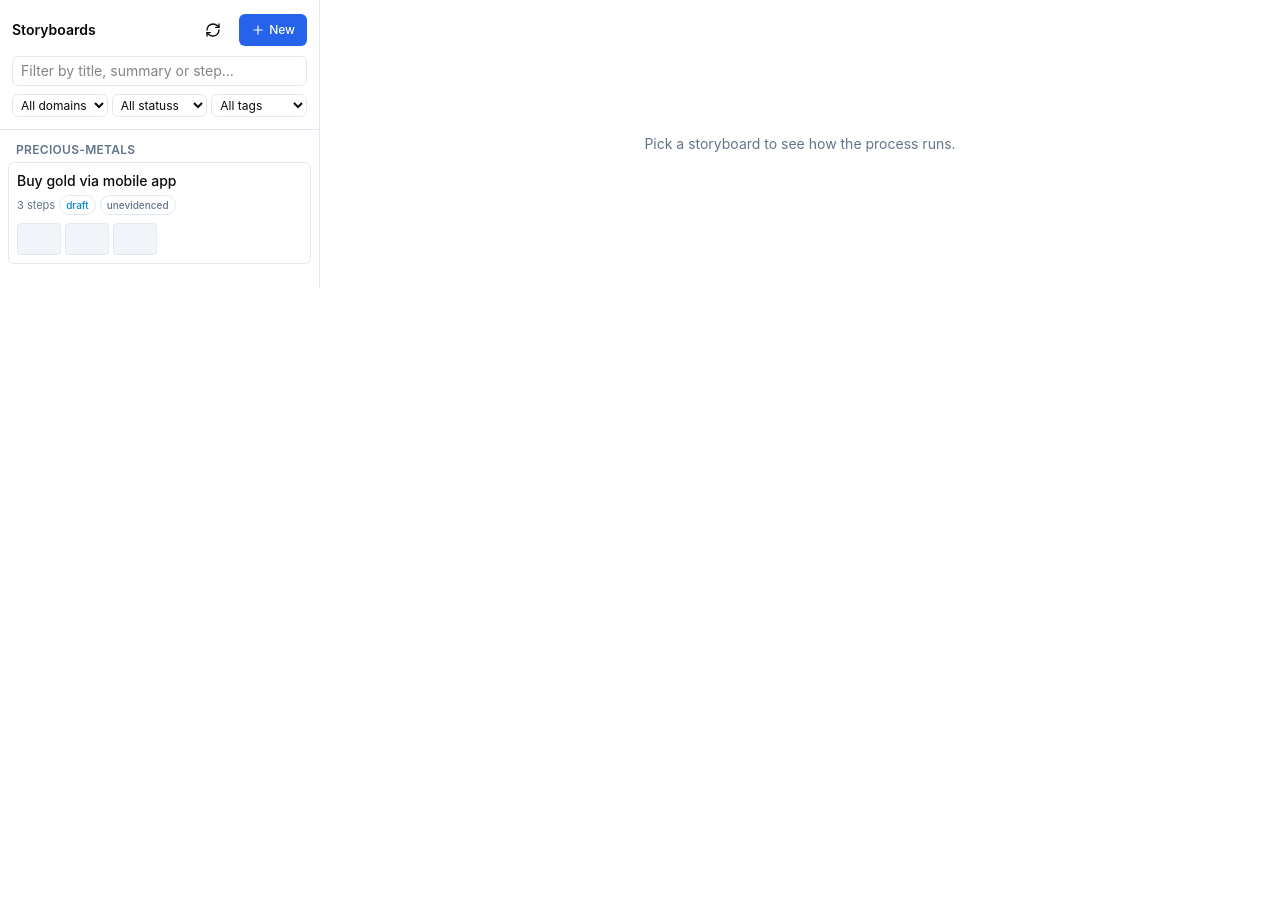
Test: Storyboard reader › e opens the step editor and p opens presentation mode
The image size is (1280, 900).
Step 1. Click the button "Buy gold via mobile app 3 steps draft unevidenced" → (160, 213), box [8,162,311,264]
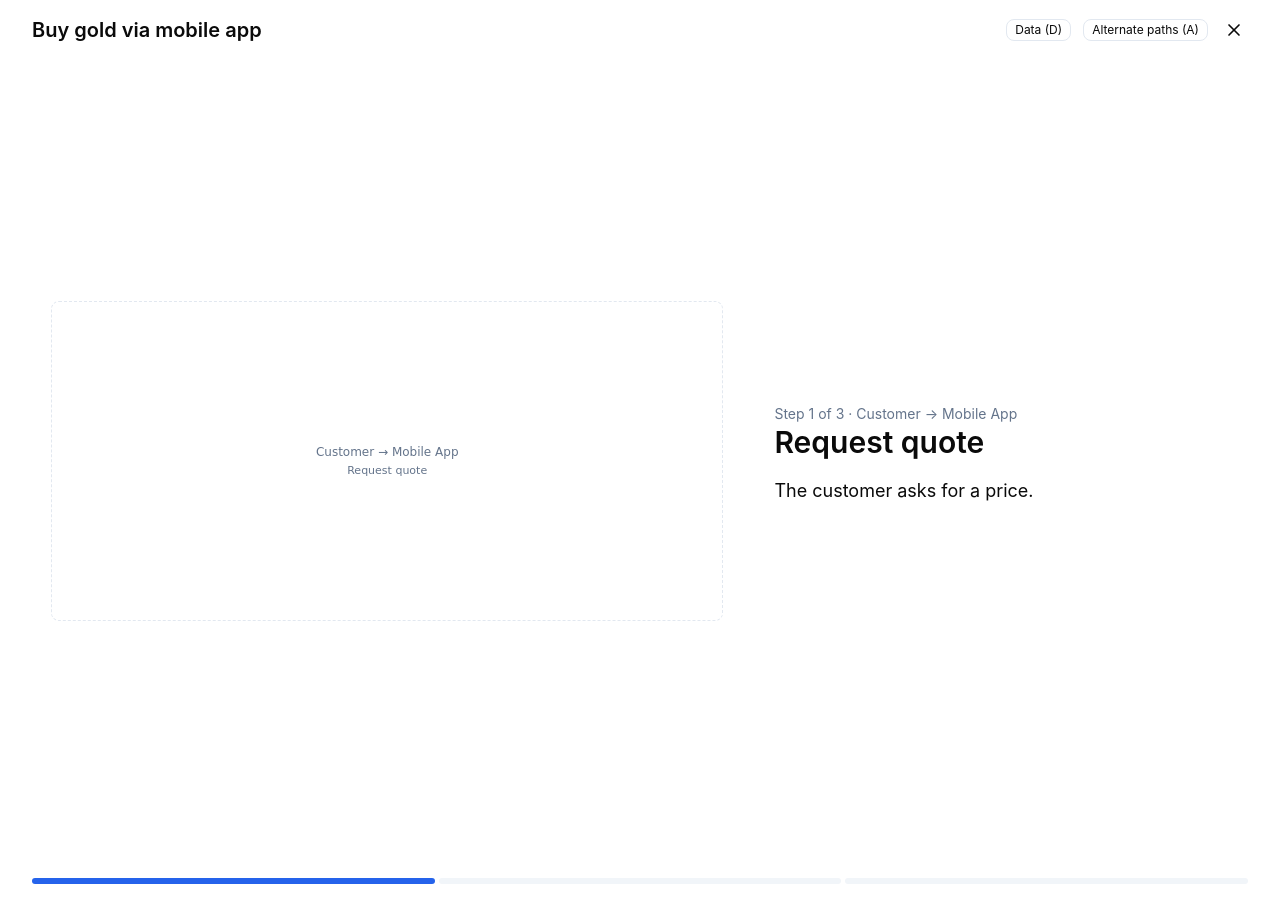
Expected: the dialog named "Presenting" is shown
